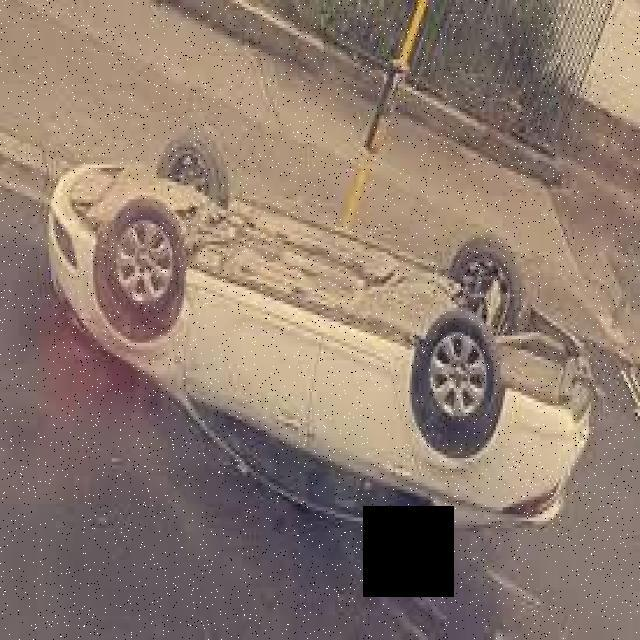severe: (41, 119, 600, 546)
